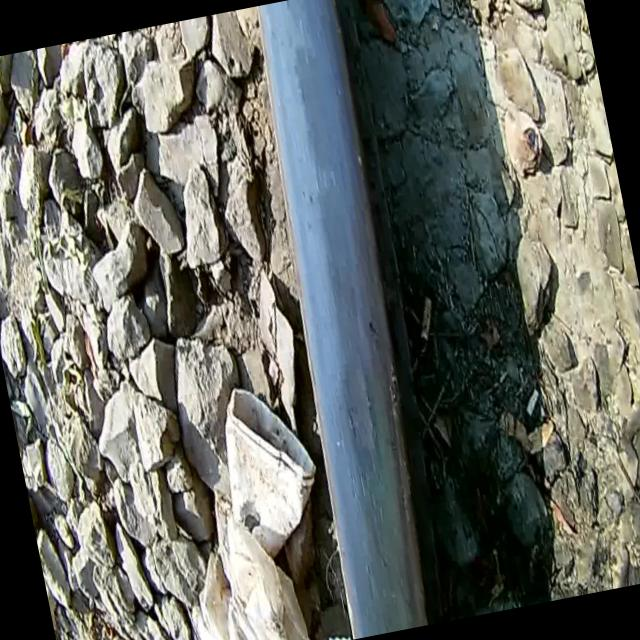Squats: (210, 0, 475, 640)
